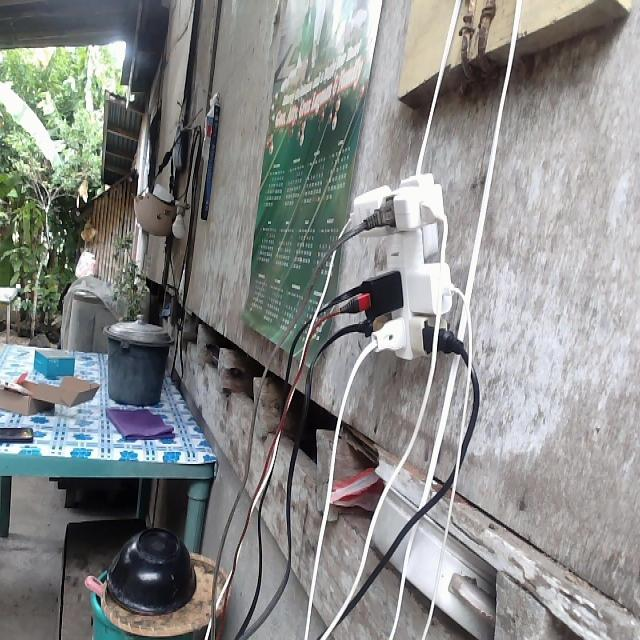-: (345, 170, 464, 362)
